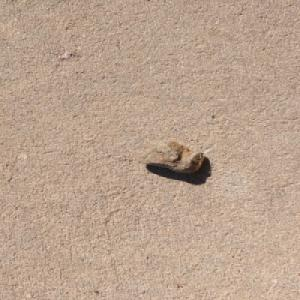Rock: (135, 139, 205, 173)
